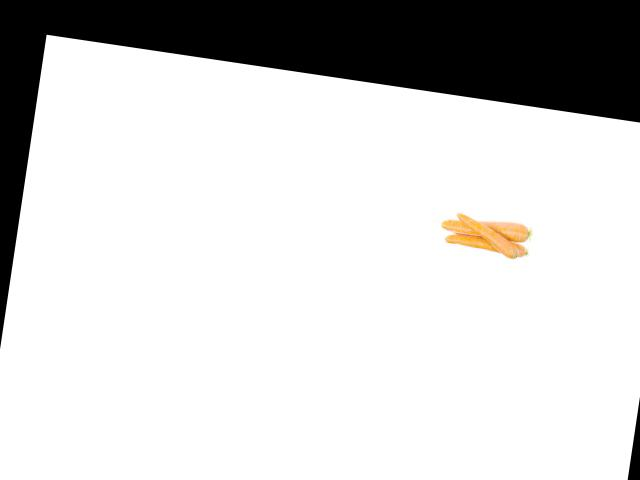carrot: (441, 228, 535, 260)
